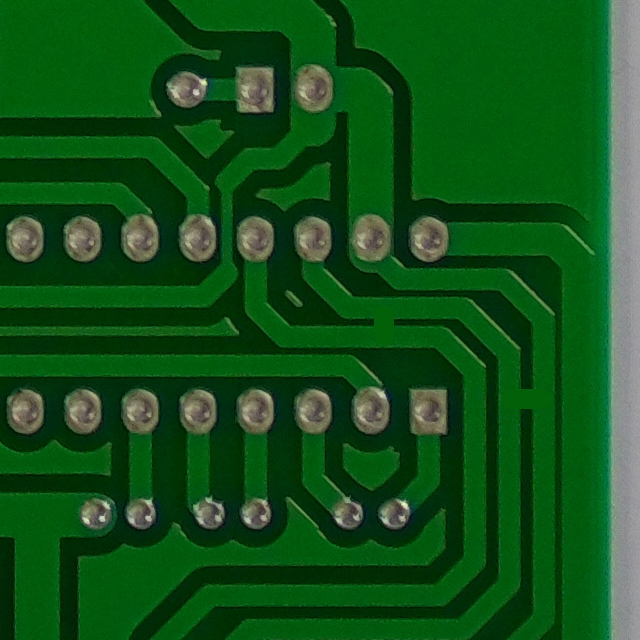short: (349, 287, 420, 354), (495, 363, 562, 430)
